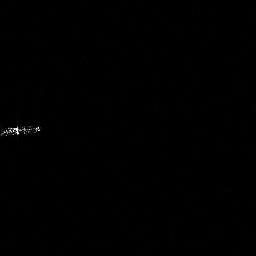ship: (1, 125, 40, 136)
